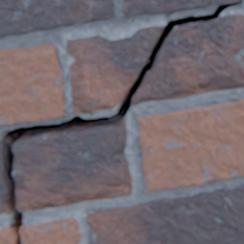brick: (138, 99, 243, 191), (87, 184, 243, 243), (0, 44, 65, 126), (0, 0, 115, 36), (123, 0, 239, 17)
broken_brick: (14, 118, 132, 210), (132, 14, 243, 104), (67, 26, 164, 114), (21, 216, 82, 243), (0, 141, 11, 213), (0, 226, 14, 243)
crack: (0, 0, 242, 243), (72, 55, 77, 62)
